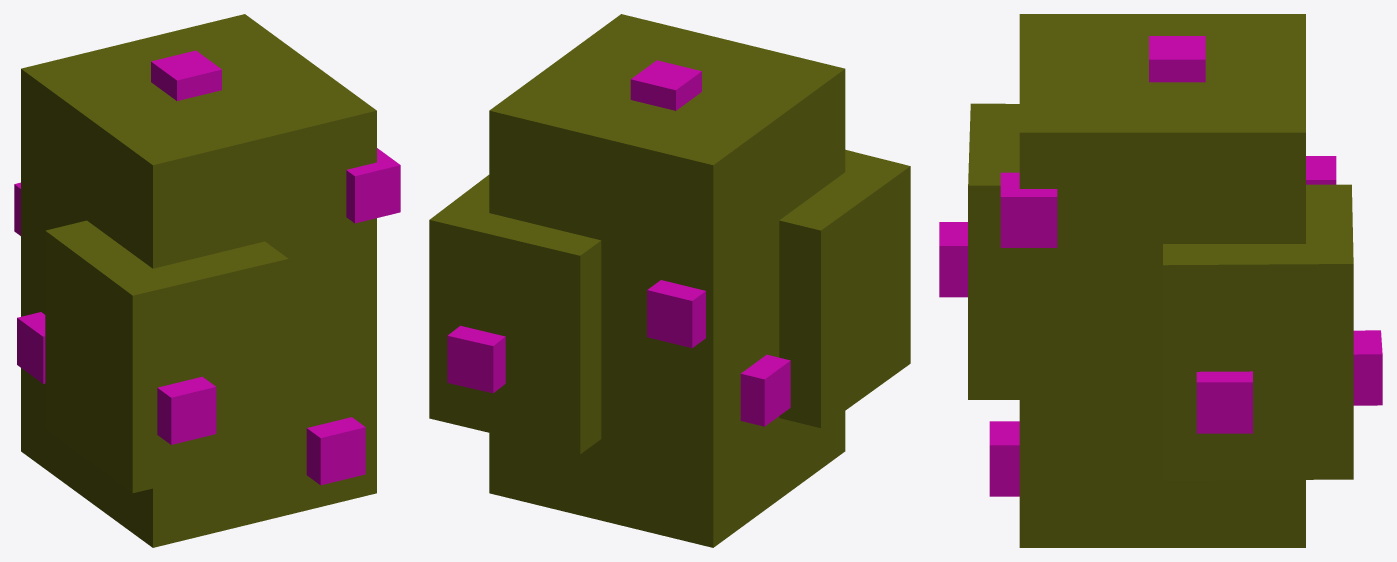
The model's file is Shrub.fbx.
3 views of the same model, side by side, from view 1: azimuth 30°, elevation 25°; view 2: azimuth 150°, elevation 25°; view 3: azimuth 270°, elevation 25° (orthographic). The views are drawn at different scales.
Visible parts, largest first — view 1: Cube.026, Cube.021; view 2: Cube.026, Cube.021; view 3: Cube.026, Cube.021.
Part boxes in pixels (left/top/right/bottom): Cube.026: left=21, top=14, right=376, bottom=547; Cube.021: left=14, top=50, right=400, bottom=485; Cube.026: left=429, top=14, right=910, bottom=547; Cube.021: left=447, top=60, right=790, bottom=426; Cube.026: left=968, top=14, right=1353, bottom=547; Cube.021: left=939, top=36, right=1382, bottom=496.
Bounding box in the file's own units: 386 × 455 × 418.
